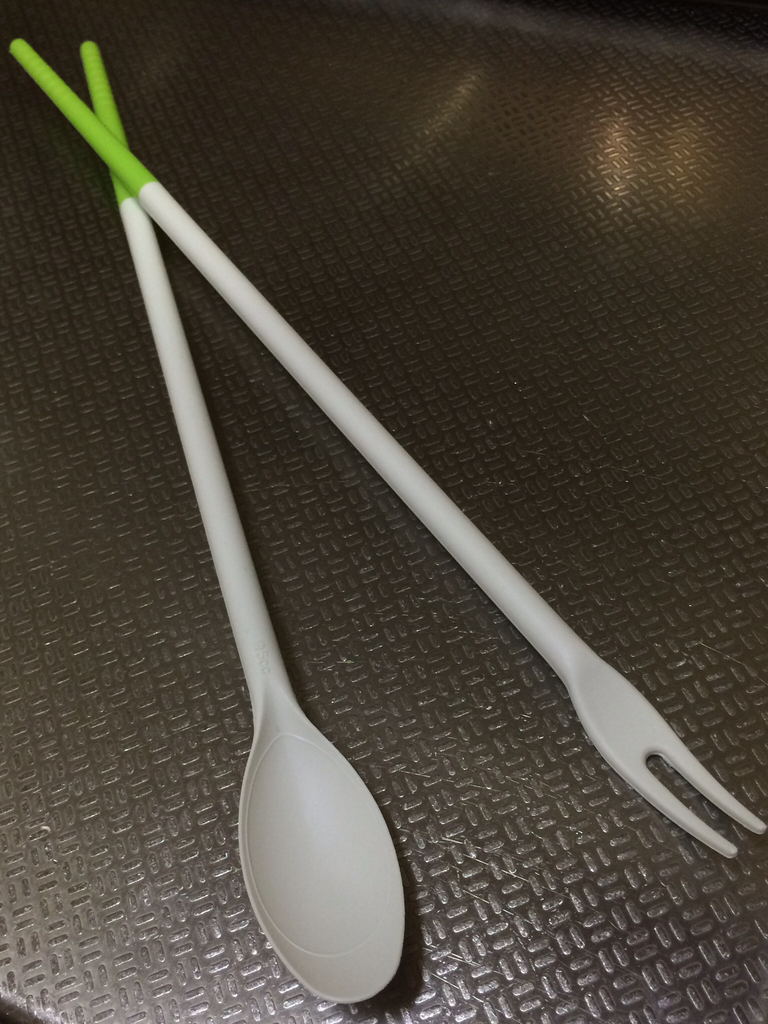fork: (9, 37, 765, 859)
